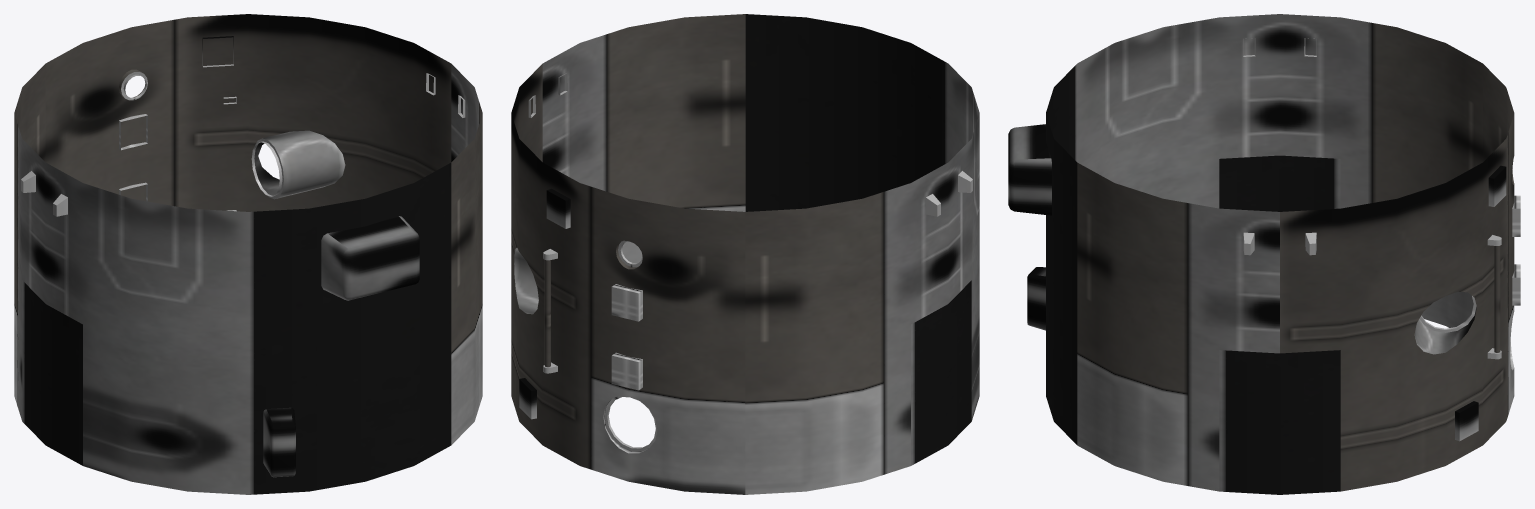
Rendered from spektr lab plain.obj.
The picture shows the model from 3 angles, left to right: view 1: azimuth 30°, elevation 25°; view 2: azimuth 150°, elevation 25°; view 3: azimuth 270°, elevation 25°; orthographic projection.
Visible parts, largest first — view 1: 1.006; view 2: 1.006; view 3: 1.006.
Part boxes in pixels (bbox=[...]): 1.006: bbox=[14, 14, 482, 494]; 1.006: bbox=[511, 14, 979, 494]; 1.006: bbox=[1008, 14, 1520, 494].
Size of the model in its own units: 1.94 by 1.25 by 2.05.
